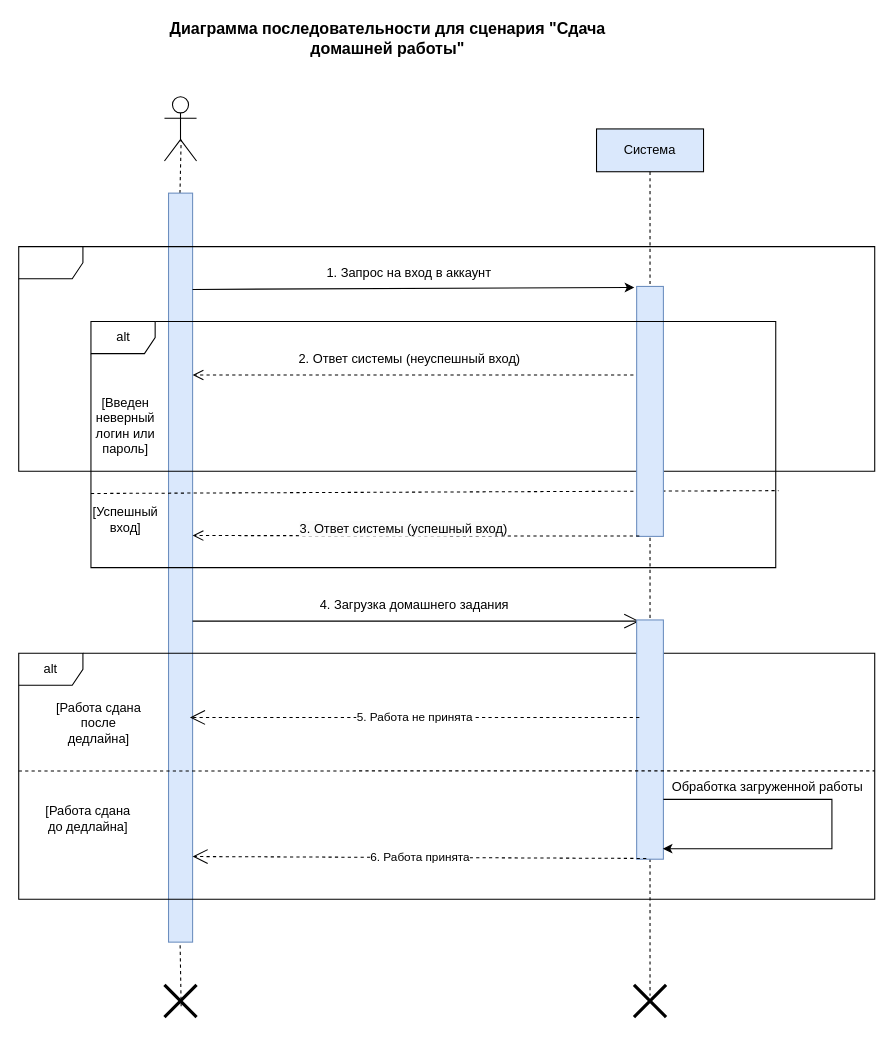
This 895x1037 diagram has some shape labels left out. Here are the shapes that lost their labels. From the top down, the box of each, then its label:
(163, 96, 197, 161): Студент
(18, 246, 875, 471): loop
